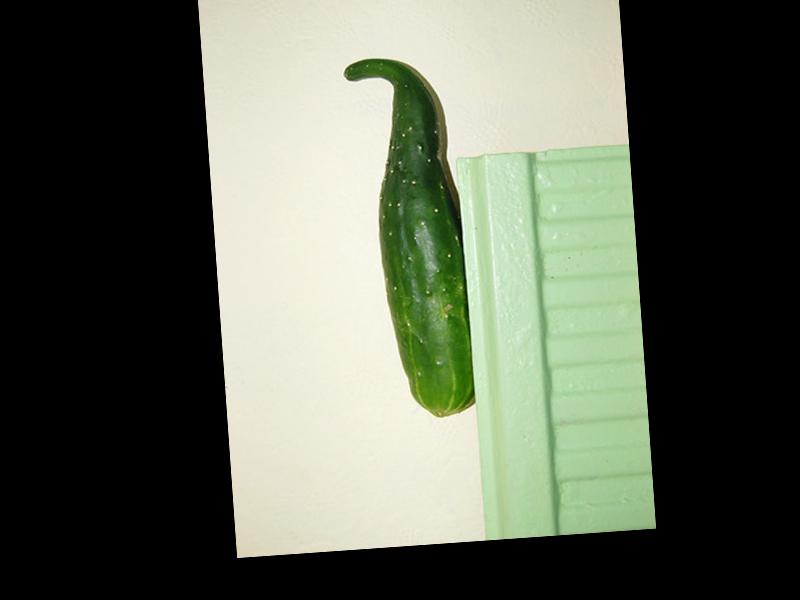Cucumber: (344, 52, 476, 421)
